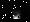person: (13, 8, 22, 19)
